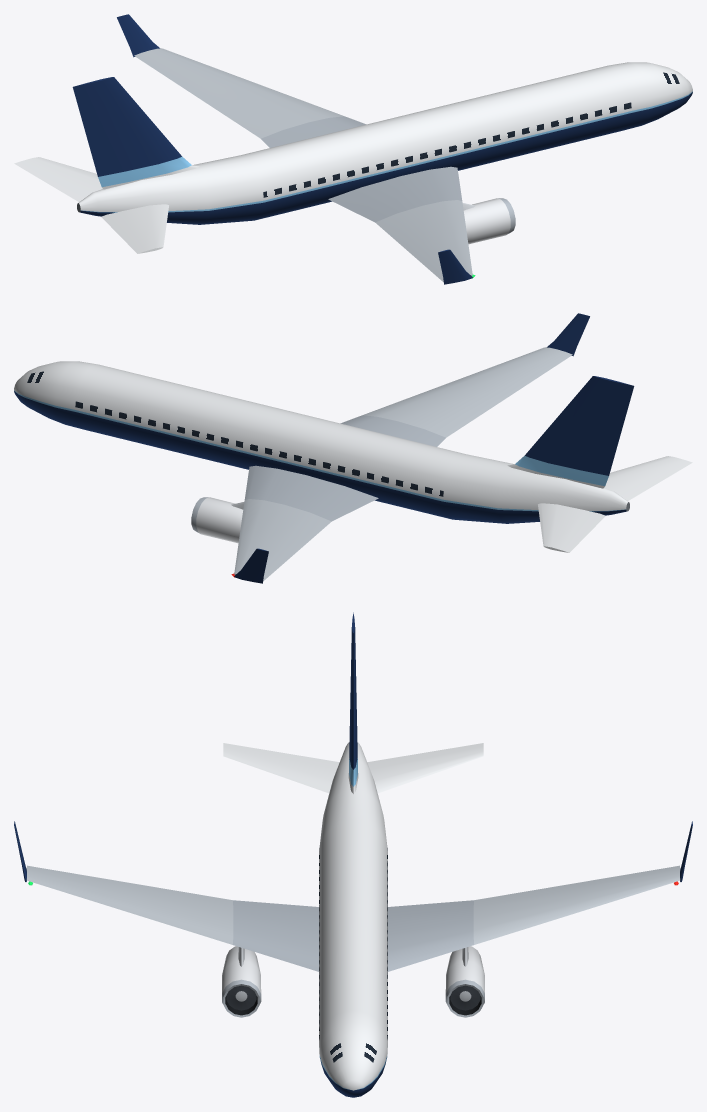
Rendered from transport.glb.
The picture shows the model from 3 angles, top to bottom: view 1: azimuth 30°, elevation 25°; view 2: azimuth 150°, elevation 25°; view 3: azimuth 270°, elevation 25°; orthographic projection. The views are drawn at different scales.
Parts seen in each view (by area): view 1: Body; view 2: Body; view 3: Body.
Part boxes in pixels (x1,y1,x2,y2): Body: (14,14,692,284); Body: (14,313,692,583); Body: (14,612,692,1097).
Size of the model in its own units: 40.4 by 12.47 by 36.39.
Materials: 2 (2 with a texture image).
